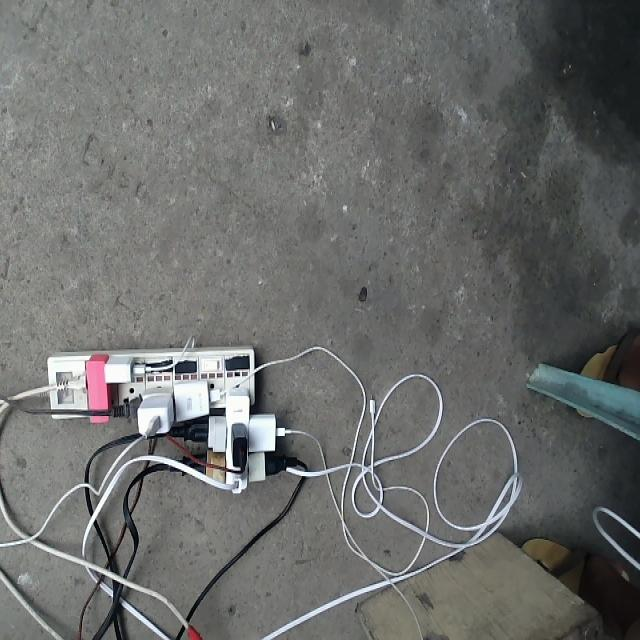-: (45, 347, 298, 492)
